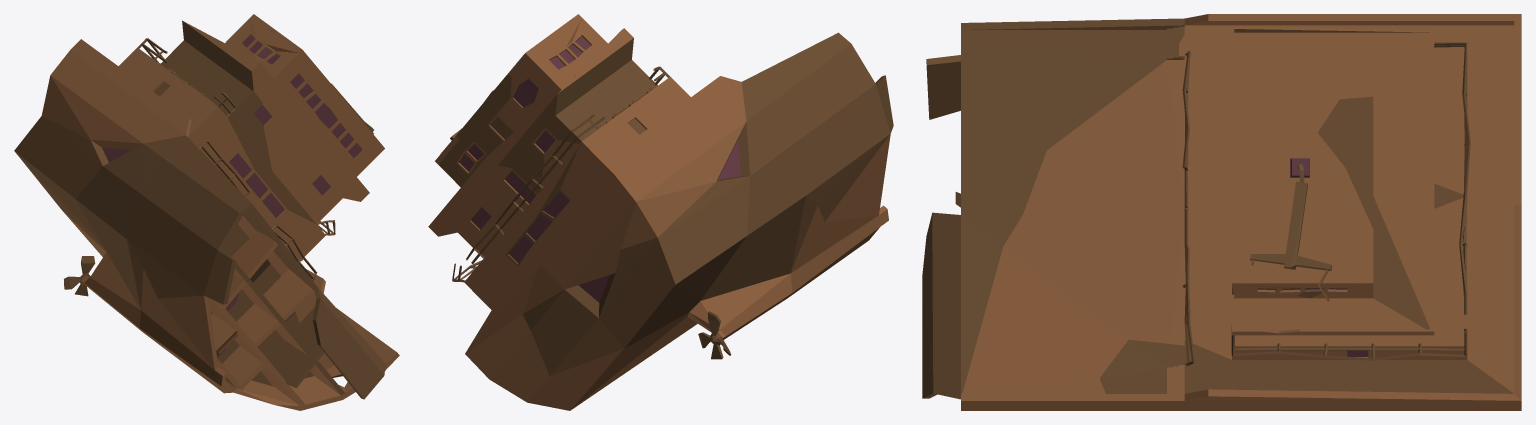
File: apocalypse-ship-cargo-back-apocalypse.glb
3 renders of one model, left to right at view 1: azimuth 30°, elevation 25°; view 2: azimuth 150°, elevation 25°; view 3: azimuth 270°, elevation 25°, orthographic. The views are drawn at different scales.
Visible parts, largest first — view 1: ship-cargo-back-apocalypse; view 2: ship-cargo-back-apocalypse; view 3: ship-cargo-back-apocalypse.
Boxes of the visible parts, x1=… form: ship-cargo-back-apocalypse: x1=14, y1=14, x2=399, y2=410; ship-cargo-back-apocalypse: x1=428, y1=14, x2=893, y2=410; ship-cargo-back-apocalypse: x1=922, y1=14, x2=1521, y2=410.
Bounding box in the file's own units: 20.25 × 18.32 × 25.44.
